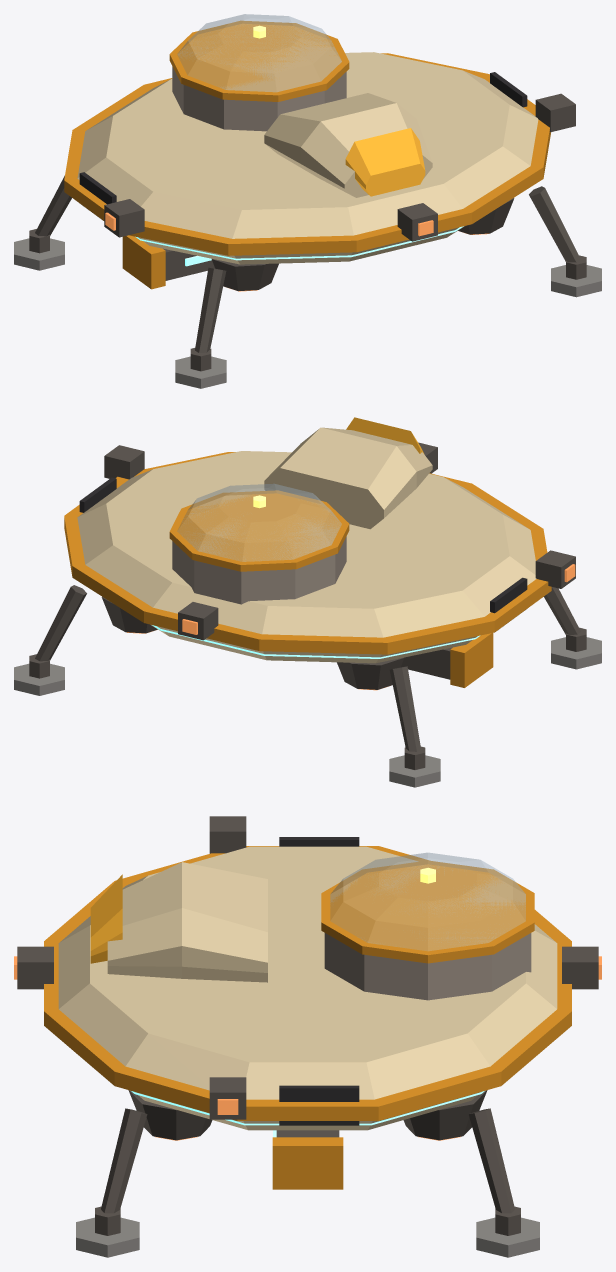
File: letoun-prachovka.glb
3 views of the same model, one above another, from view 1: azimuth 30°, elevation 25°; view 2: azimuth 150°, elevation 25°; view 3: azimuth 270°, elevation 25° (orthographic). The views are drawn at different scales.
Visible parts, largest first — view 1: prachovka; view 2: prachovka; view 3: prachovka.
Boxes of the visible parts, <box> form: prachovka: <box>14,14,601,388</box>; prachovka: <box>14,417,601,787</box>; prachovka: <box>14,816,601,1257</box>.
Size of the model in its own units: 5.78 by 2.48 by 5.14.
